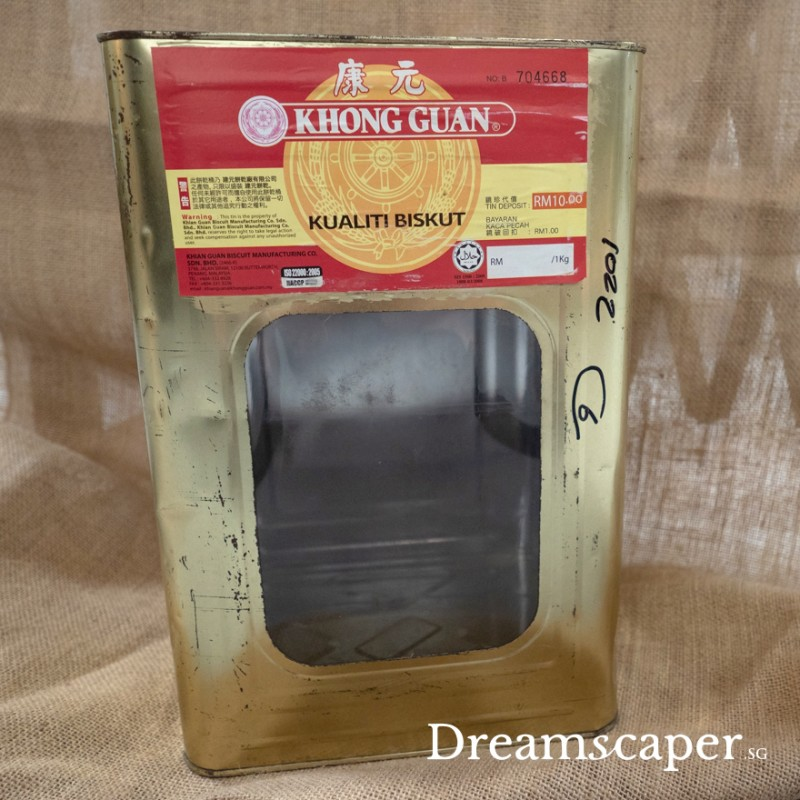metal: (91, 29, 647, 780)
